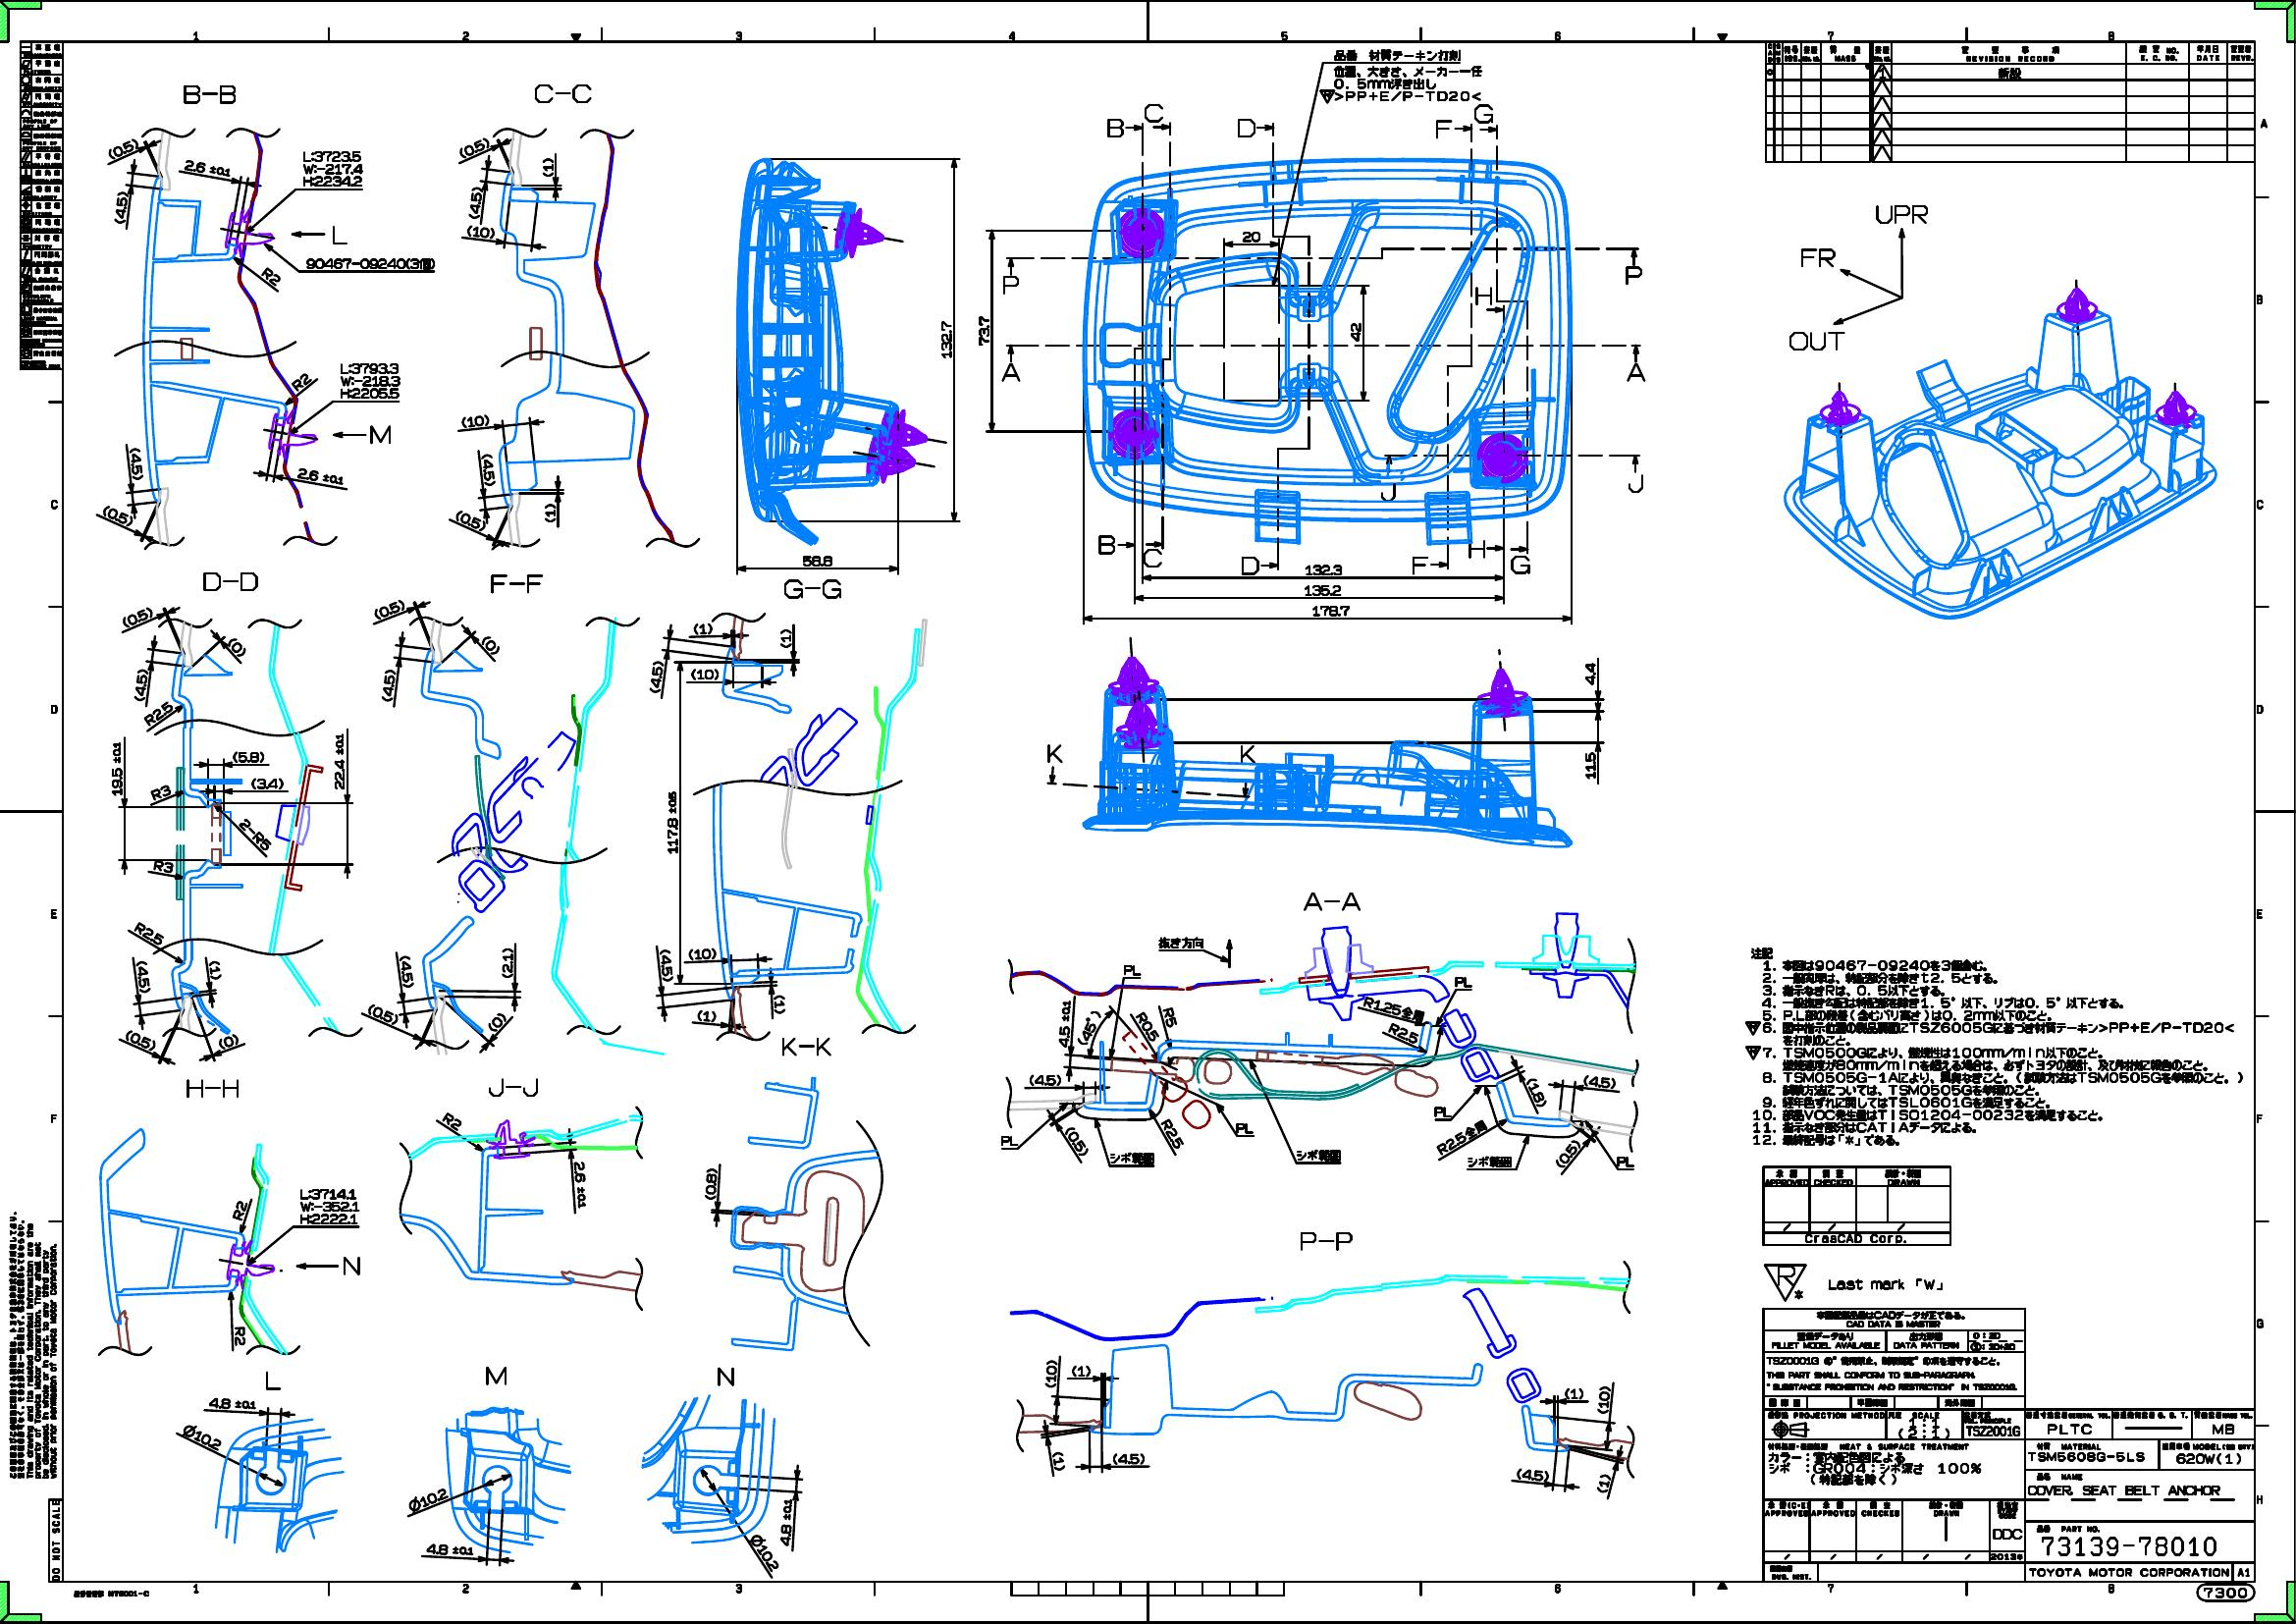anntotation_text: (1744, 946, 2243, 1148), (7, 1209, 58, 1478), (1318, 47, 1483, 102), (1762, 1262, 1946, 1302), (306, 257, 436, 269), (782, 578, 841, 599), (534, 83, 590, 104), (2196, 1584, 2256, 1603), (1788, 330, 1846, 350), (1874, 204, 1927, 225), (186, 1077, 239, 1098), (1303, 891, 1360, 910), (202, 571, 258, 591), (490, 573, 541, 594), (183, 84, 235, 104), (1300, 1232, 1353, 1251), (488, 1077, 538, 1097), (782, 1037, 831, 1056), (1361, 1002, 1425, 1016), (1801, 248, 1836, 267), (72, 1589, 149, 1598), (1158, 935, 1203, 949), (1433, 1132, 1490, 1142), (1108, 1153, 1156, 1165), (1467, 1156, 1513, 1167), (1296, 1149, 1340, 1160), (249, 816, 262, 852), (369, 424, 390, 445), (1000, 362, 1021, 381), (1509, 555, 1530, 575), (715, 1366, 734, 1387), (485, 1366, 506, 1385), (1625, 362, 1646, 381), (1388, 1026, 1419, 1039), (1142, 1011, 1154, 1042), (134, 926, 165, 939), (142, 707, 174, 719), (1240, 555, 1260, 575), (1144, 548, 1163, 568), (1237, 118, 1256, 137), (1474, 104, 1493, 123), (1098, 534, 1116, 555), (1107, 118, 1124, 137), (1144, 104, 1163, 121), (1474, 286, 1491, 306), (343, 1257, 360, 1276), (1625, 265, 1643, 285), (1003, 274, 1019, 295), (1047, 742, 1063, 763), (1467, 540, 1484, 557), (332, 225, 348, 244), (1381, 482, 1397, 501), (1412, 555, 1428, 575), (1627, 473, 1643, 492), (265, 1371, 281, 1390), (1240, 743, 1256, 763), (1435, 120, 1451, 139), (290, 376, 311, 388), (234, 1199, 246, 1220), (234, 1325, 246, 1346), (149, 786, 170, 798), (153, 859, 174, 872), (441, 1116, 462, 1127), (1433, 1106, 1451, 1118), (1455, 975, 1472, 988), (262, 271, 281, 281), (1235, 1123, 1254, 1134), (1123, 965, 1142, 975), (1165, 1007, 1175, 1026), (1616, 1156, 1634, 1167), (1000, 1135, 1017, 1146)
dimension_text: (299, 1188, 360, 1225), (302, 149, 362, 186), (666, 791, 678, 854), (207, 1396, 256, 1410), (111, 742, 123, 796), (1058, 1000, 1072, 1048), (757, 1531, 773, 1571), (1080, 1009, 1096, 1048), (574, 1160, 587, 1209), (425, 1543, 474, 1555), (780, 1497, 792, 1547), (181, 1429, 223, 1443), (334, 733, 344, 789), (297, 469, 344, 482), (183, 162, 230, 174), (406, 1492, 450, 1504), (940, 320, 952, 359), (123, 1033, 156, 1048), (381, 668, 395, 701), (102, 508, 135, 522), (457, 141, 490, 155), (1312, 605, 1349, 617), (1303, 584, 1340, 596), (401, 954, 413, 990), (137, 960, 149, 993), (1562, 1137, 1574, 1171), (1583, 1076, 1616, 1088), (1070, 1125, 1082, 1158), (704, 1167, 717, 1200), (481, 453, 494, 487), (1112, 1452, 1145, 1464), (1516, 1468, 1549, 1480), (650, 659, 662, 692), (661, 949, 673, 982), (365, 1007, 399, 1019), (372, 603, 406, 615), (121, 610, 155, 622), (135, 668, 148, 701), (249, 777, 283, 789), (130, 446, 142, 480), (114, 190, 126, 223), (105, 142, 139, 155), (469, 186, 481, 220), (232, 750, 264, 763), (1166, 1118, 1179, 1149), (1029, 1074, 1061, 1086), (455, 513, 487, 526), (1305, 564, 1342, 575), (1530, 1077, 1542, 1107), (466, 225, 495, 237), (687, 947, 717, 960), (460, 415, 488, 427), (1597, 1385, 1609, 1413), (1585, 750, 1597, 779), (690, 668, 718, 680), (978, 315, 989, 346), (1045, 1359, 1056, 1388), (803, 555, 833, 566), (502, 947, 513, 977), (490, 1011, 504, 1032), (483, 634, 497, 656), (1585, 663, 1597, 685), (209, 960, 221, 981), (218, 1035, 239, 1048), (692, 622, 713, 634), (773, 993, 785, 1014), (541, 156, 553, 178), (230, 636, 242, 657), (1052, 1452, 1065, 1471), (1597, 1473, 1609, 1492), (1563, 1387, 1583, 1399), (1349, 322, 1361, 341), (697, 1009, 717, 1021), (1242, 230, 1260, 243), (545, 503, 555, 522), (1072, 1366, 1091, 1376), (780, 629, 791, 649)
object: (1080, 156, 1572, 547), (1783, 278, 2217, 620), (1008, 912, 1635, 1139), (1008, 1272, 1634, 1461), (420, 617, 666, 1056), (1080, 638, 1572, 849), (711, 615, 928, 1039), (734, 156, 947, 547), (499, 130, 678, 548), (141, 130, 316, 547), (170, 620, 341, 1037), (399, 1114, 643, 1294), (98, 1127, 290, 1353), (731, 1076, 880, 1352), (639, 1394, 775, 1545), (444, 1406, 571, 1554), (214, 1417, 346, 1554)
title_block: (1762, 1308, 2256, 1580), (1765, 40, 2256, 162), (1762, 1167, 1950, 1244), (19, 40, 63, 369)
